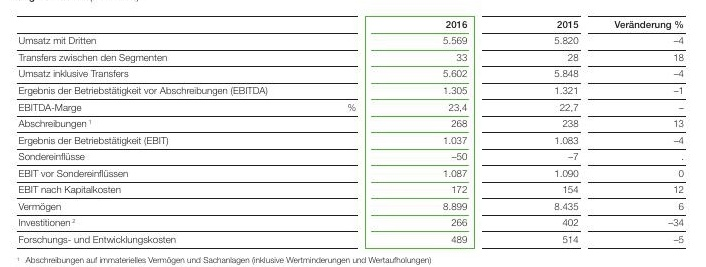table: (0, 0, 706, 267)
